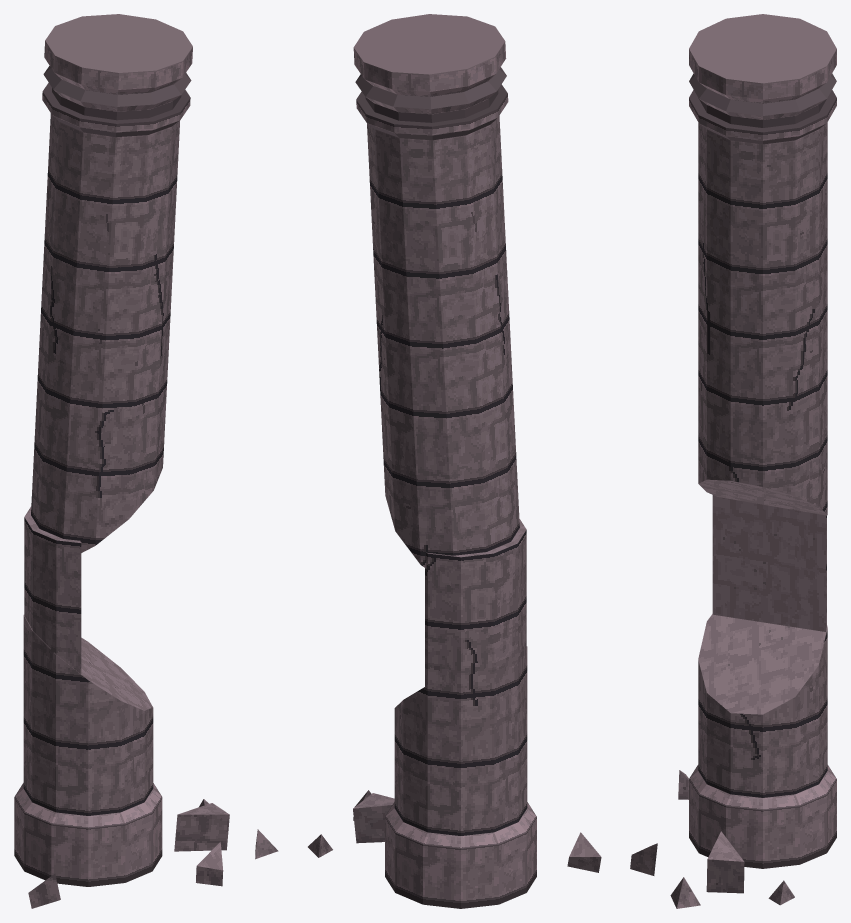
File: saeule_z2_treffer2.glb
3 renders of one model, left to right at view 1: azimuth 30°, elevation 25°; view 2: azimuth 150°, elevation 25°; view 3: azimuth 270°, elevation 25°, orthographic. The views are drawn at different scales.
Visible parts, largest first — view 1: saeule_z2_treffer2; view 2: saeule_z2_treffer2; view 3: saeule_z2_treffer2.
Boxes of the visible parts, x1,y1,x2,y2 form: saeule_z2_treffer2: (14,14,278,908); saeule_z2_treffer2: (308,14,601,908); saeule_z2_treffer2: (630,14,836,908).
Size of the model in its own units: 1.92 by 6.03 by 1.4.
1 material, 1 textured.
